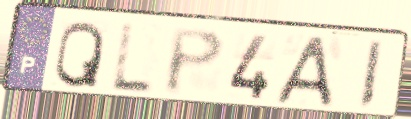4: (226, 32, 273, 102)
A: (272, 35, 336, 108)
I: (355, 38, 386, 112)
L: (108, 22, 156, 96)
P: (163, 26, 228, 98)
Q: (52, 19, 107, 90)
